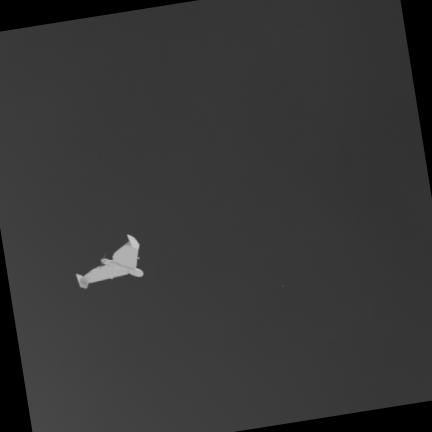Shahed: (76, 235, 142, 287)
